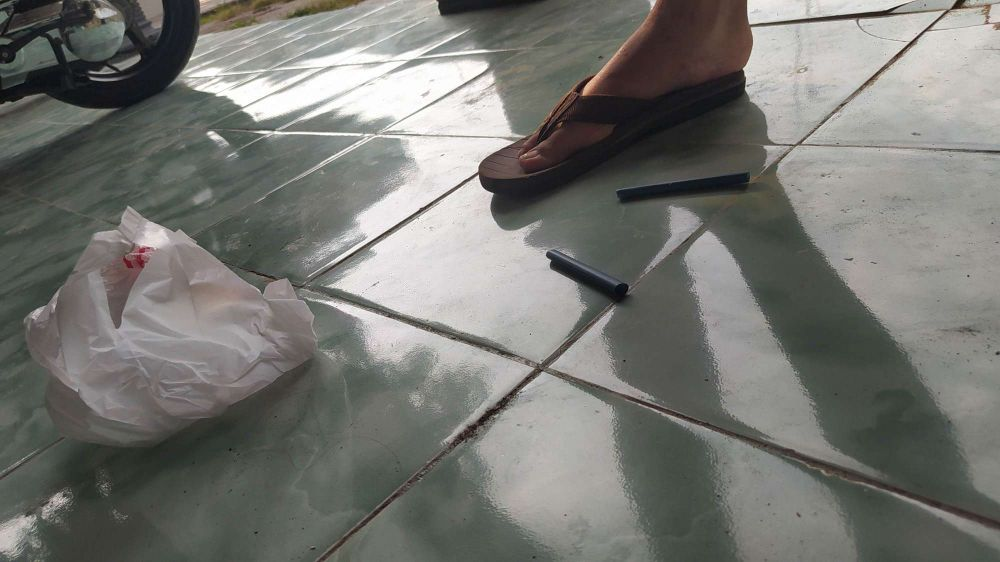plastik: (15, 215, 324, 455)
